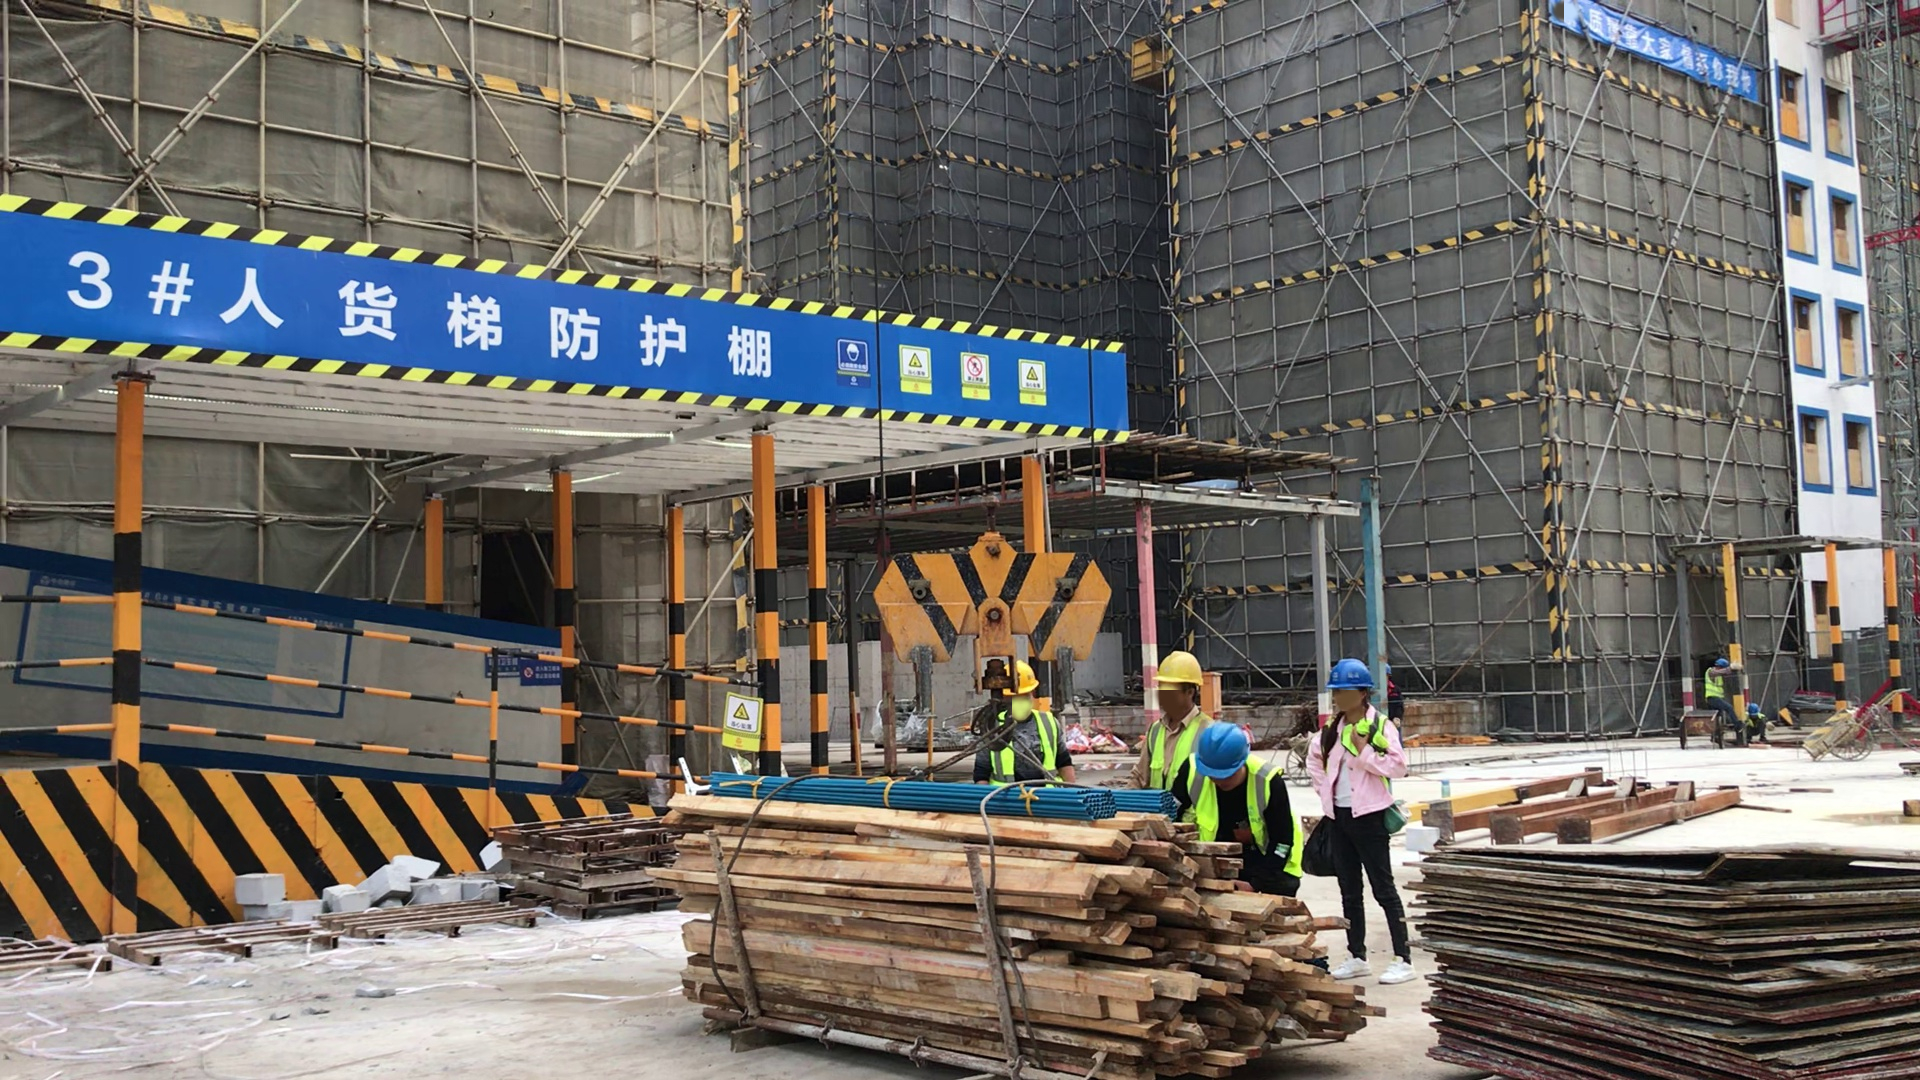board: (1421, 824, 1920, 1076)
handcart: (1796, 687, 1912, 761)
helmet: (1194, 723, 1249, 777), (1153, 649, 1202, 687), (1324, 658, 1374, 694), (999, 660, 1042, 691), (1747, 702, 1759, 716), (1715, 658, 1729, 668), (1385, 667, 1394, 676)
hook: (888, 538, 1110, 669)
person: (1300, 658, 1422, 986), (1185, 723, 1308, 899), (975, 662, 1077, 786), (1134, 649, 1211, 792), (1700, 658, 1743, 733), (1385, 664, 1406, 736), (1739, 702, 1775, 742)
slogan: (1570, 1, 1761, 108)
vest: (1201, 779, 1284, 867), (988, 711, 1065, 776), (1146, 717, 1195, 790), (1705, 669, 1724, 698)
wood: (622, 794, 1375, 1080)
